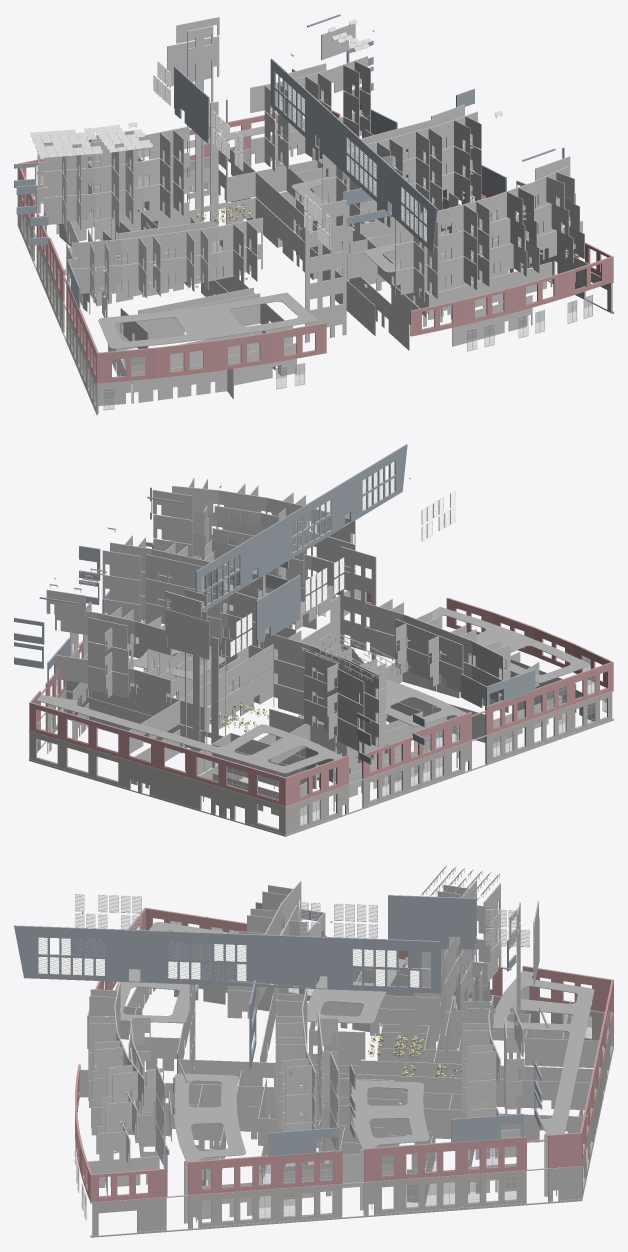
The picture shows the model from 3 angles, top to bottom: view 1: azimuth 30°, elevation 25°; view 2: azimuth 150°, elevation 25°; view 3: azimuth 270°, elevation 25°; orthographic projection. The views are drawn at different scales.
Parts seen in each view (by area): view 1: 3064w0y0nDv9wdb1cWL_H0, 3XcyB2r41CxQ6vjSWkXT20, 2wV7MXoU9CUuWvtMFXEkwk, 3XcyB2r41CxQ6vjSWkXT1W, 1eskv53e1BD9M0IxcXLEDv, 2HaS6zNOX8xOGjmaNi_rOv, 16jNZ2tun24A6vlE4KAe0t, 0VYEf_W9L8bQWjt6MLK2zs, 0X5AvQ9gP4TRYnhNSEodrX, 3GKM_ZECz7W9zLWaxxFO2N, 1qLFz3eN1Anw3p2RKHqb92, 3064w0y0nDv9wdb1cWL_I3 (+54 smaller); view 2: 3064w0y0nDv9wdb1cWL_H0, 2HaS6zNOX8xOGjmaNi_rOv, 2HaS6zNOX8xOGjmaNi_rOy, 1qLFz3eN1Anw3p2RKHqajI, 1qLFz3eN1Anw3p2RKHqb92, 0yhpHAyTP1lfDR_subPjNk, 1eskv53e1BD9M0IxcXLEDv, 3XcyB2r41CxQ6vjSWkXT20, 2wV7MXoU9CUuWvtMFXEkwk, 3064w0y0nDv9wdb1cWL_I3, 0o_QWr67L6KuG2qQA6Aht4, 1qLFz3eN1Anw3p2RKHqahm (+61 smaller); view 3: 3064w0y0nDv9wdb1cWL_H0, 2HaS6zNOX8xOGjmaNi_rO$, 3gcZ_oC_jDoxSlTB7Y3625, 0yhpHAyTP1lfDR_subPjNk, 3064w0y0nDv9wdb1cWL_I3, 2IpEZ51UvFmel3Jop0mW7C, 0yhpHAyTP1lfDR_subPjBl, 3GKM_ZECz7W9zLWaxxFPe9, 3gcZ_oC_jDoxSlTB7Y360h, 1OV06Y3c5D8vODNyxVnS6v, 2wV7MXoU9CUuWvtMFXEkwk, 3Y4DbCGAX3uQt5nUIwFqOB (+52 smaller).
Part boxes in pixels (x1=…): 3064w0y0nDv9wdb1cWL_H0: x1=270, y1=58, x2=437, y2=252; 3XcyB2r41CxQ6vjSWkXT20: x1=99, y1=322, x2=326, y2=383; 2wV7MXoU9CUuWvtMFXEkwk: x1=98, y1=292, x2=317, y2=349; 3XcyB2r41CxQ6vjSWkXT1W: x1=410, y1=256, x2=613, y2=336; 1eskv53e1BD9M0IxcXLEDv: x1=305, y1=200, x2=346, y2=342; 2HaS6zNOX8xOGjmaNi_rOv: x1=17, y1=195, x2=98, y2=415; 16jNZ2tun24A6vlE4KAe0t: x1=428, y1=262, x2=552, y2=319; 0VYEf_W9L8bQWjt6MLK2zs: x1=132, y1=364, x2=227, y2=403; 0X5AvQ9gP4TRYnhNSEodrX: x1=122, y1=226, x2=217, y2=264; 3GKM_ZECz7W9zLWaxxFO2N: x1=115, y1=293, x2=260, y2=350; 1qLFz3eN1Anw3p2RKHqb92: x1=48, y1=237, x2=98, y2=383; 3064w0y0nDv9wdb1cWL_I3: x1=174, y1=66, x2=209, y2=143; 3064w0y0nDv9wdb1cWL_H0: x1=195, y1=444, x2=407, y2=611; 2HaS6zNOX8xOGjmaNi_rOv: x1=285, y1=690, x2=613, y2=836; 2HaS6zNOX8xOGjmaNi_rOy: x1=29, y1=731, x2=286, y2=836; 1qLFz3eN1Anw3p2RKHqajI: x1=29, y1=702, x2=284, y2=805; 1qLFz3eN1Anw3p2RKHqb92: x1=412, y1=661, x2=613, y2=760; 0yhpHAyTP1lfDR_subPjNk: x1=36, y1=695, x2=343, y2=773; 1eskv53e1BD9M0IxcXLEDv: x1=340, y1=546, x2=376, y2=664; 3XcyB2r41CxQ6vjSWkXT20: x1=446, y1=597, x2=612, y2=687; 2wV7MXoU9CUuWvtMFXEkwk: x1=432, y1=606, x2=589, y2=683; 3064w0y0nDv9wdb1cWL_I3: x1=256, y1=574, x2=300, y2=644; 0o_QWr67L6KuG2qQA6Aht4: x1=165, y1=608, x2=209, y2=659; 1qLFz3eN1Anw3p2RKHqahm: x1=284, y1=755, x2=348, y2=806; 3064w0y0nDv9wdb1cWL_H0: x1=14, y1=925, x2=440, y2=993; 2HaS6zNOX8xOGjmaNi_rO$: x1=90, y1=1166, x2=582, y2=1237; 3gcZ_oC_jDoxSlTB7Y3625: x1=364, y1=1132, x2=579, y2=1182; 0yhpHAyTP1lfDR_subPjNk: x1=492, y1=970, x2=594, y2=1137; 3064w0y0nDv9wdb1cWL_I3: x1=388, y1=895, x2=476, y2=949; 2IpEZ51UvFmel3Jop0mW7C: x1=173, y1=1073, x2=245, y2=1165; 0yhpHAyTP1lfDR_subPjBl: x1=352, y1=1080, x2=429, y2=1152; 3GKM_ZECz7W9zLWaxxFPe9: x1=359, y1=1060, x2=598, y2=1100; 3gcZ_oC_jDoxSlTB7Y360h: x1=188, y1=1155, x2=276, y2=1195; 1OV06Y3c5D8vODNyxVnS6v: x1=307, y1=958, x2=405, y2=1023; 2wV7MXoU9CUuWvtMFXEkwk: x1=115, y1=922, x2=228, y2=1023; 3Y4DbCGAX3uQt5nUIwFqOB: x1=177, y1=1059, x2=359, y2=1086.
Bounding box in the file's own units: 99.48 × 37.67 × 96.12.
